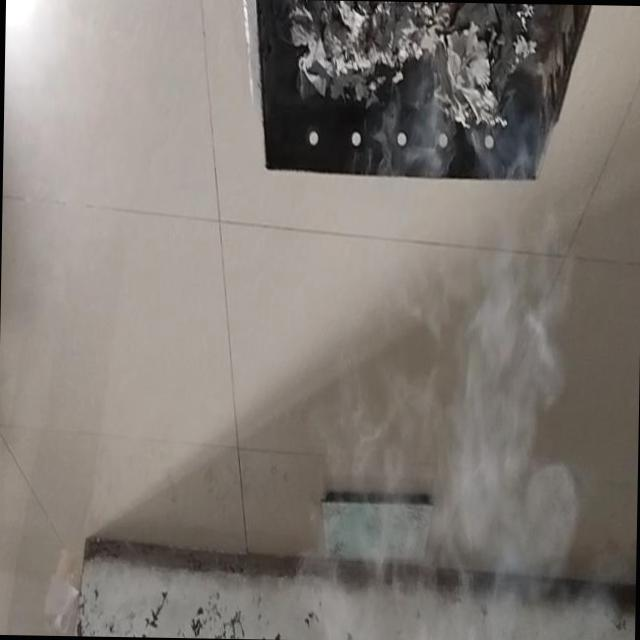smoke: (385, 111, 580, 640)
